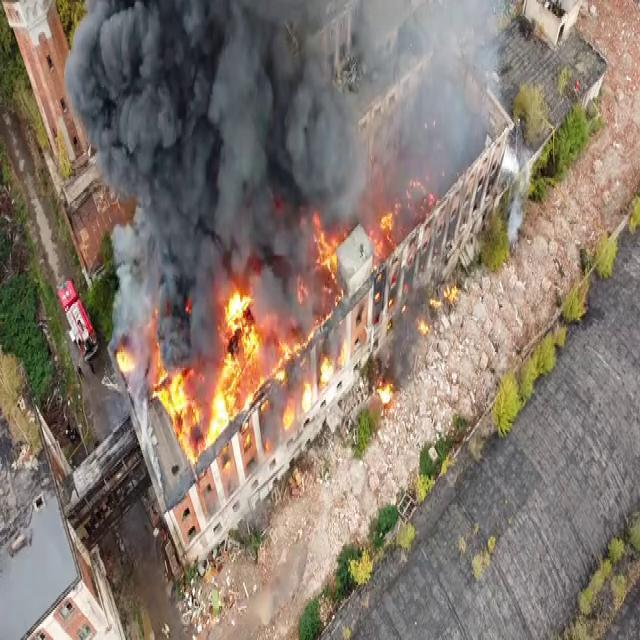fire: (162, 374, 226, 442), (224, 329, 274, 386), (224, 286, 252, 346), (305, 266, 330, 321), (372, 195, 397, 250), (309, 220, 337, 268), (403, 180, 433, 218), (116, 346, 140, 374), (443, 281, 463, 313), (224, 383, 248, 409), (302, 379, 314, 414), (323, 354, 337, 382), (282, 396, 294, 426), (416, 320, 431, 344), (378, 382, 390, 402)
smoke: (207, 0, 306, 136), (132, 70, 219, 206), (285, 72, 364, 216), (212, 138, 290, 254), (258, 0, 326, 94), (141, 6, 212, 90), (92, 108, 163, 185), (85, 0, 146, 85), (68, 48, 136, 117), (138, 206, 194, 276), (160, 313, 218, 368), (362, 5, 402, 74), (430, 62, 462, 136), (403, 3, 441, 58), (444, 4, 484, 56), (256, 263, 292, 317), (190, 248, 220, 308), (120, 276, 152, 325), (408, 127, 447, 166), (450, 105, 484, 148), (112, 231, 144, 270)
